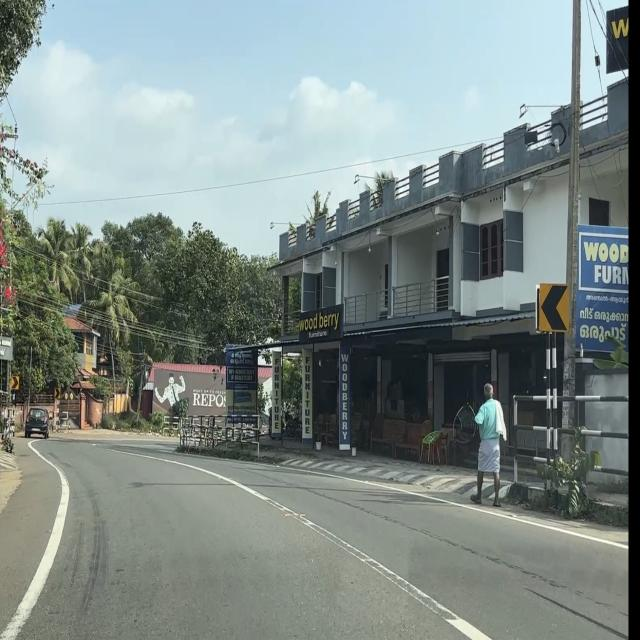TURN_LEFT: (538, 282, 571, 333)
TURN_RIGHT: (11, 376, 19, 389), (54, 388, 60, 398)
